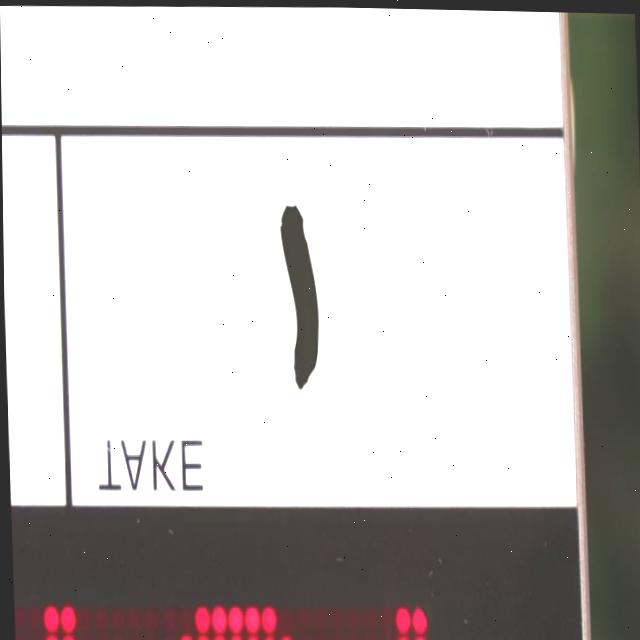Clapperboard: (0, 0, 592, 640)
